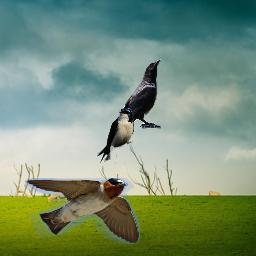Crow: (113, 58, 161, 146)
Swallow: (25, 178, 140, 244), (97, 108, 134, 163)
